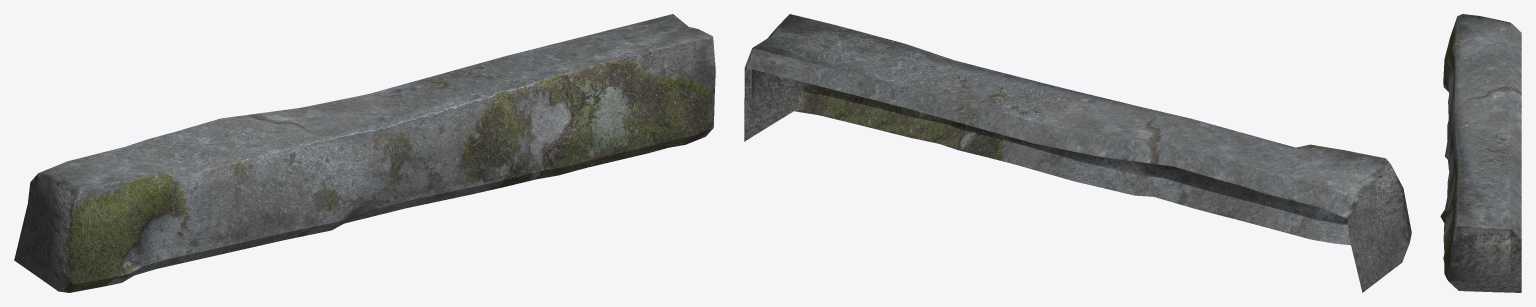
File: beech_forest_stair_01_3.fbx
The picture shows the model from 3 angles, left to right: view 1: azimuth 30°, elevation 25°; view 2: azimuth 150°, elevation 25°; view 3: azimuth 270°, elevation 25°; orthographic projection. The views are drawn at different scales.
Parts seen in each view (by area): view 1: beech_forest_stair_01_3_beech_forest_stair_01_3_LOD0; view 2: beech_forest_stair_01_3_beech_forest_stair_01_3_LOD0; view 3: beech_forest_stair_01_3_beech_forest_stair_01_3_LOD0.
Part boxes in pixels (bbox=[...]): beech_forest_stair_01_3_beech_forest_stair_01_3_LOD0: bbox=[14, 14, 715, 292]; beech_forest_stair_01_3_beech_forest_stair_01_3_LOD0: bbox=[744, 14, 1411, 292]; beech_forest_stair_01_3_beech_forest_stair_01_3_LOD0: bbox=[1440, 14, 1521, 292].
Size of what is drawn, in the model's own units: 48.92 by 7.29 by 7.76.
